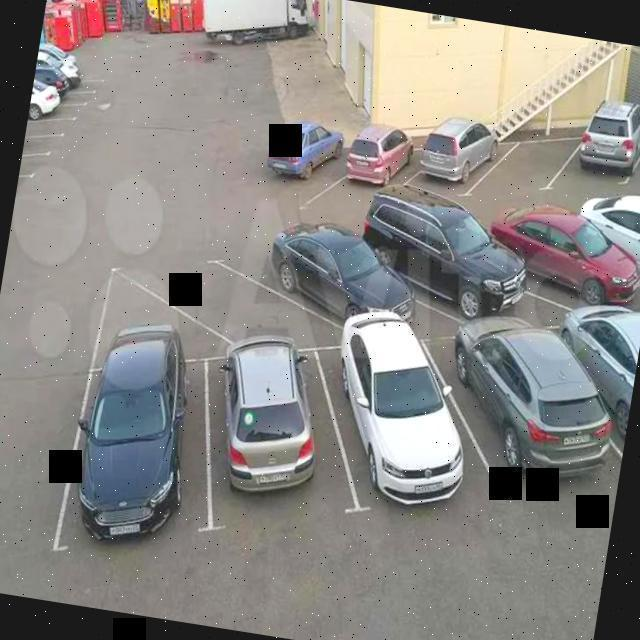space-empty: (111, 223, 322, 373), (476, 121, 582, 203)
space-occupied: (413, 304, 631, 519), (296, 316, 504, 541), (39, 342, 233, 575), (186, 323, 372, 534), (235, 205, 442, 358), (357, 194, 556, 342), (480, 206, 640, 333), (555, 316, 640, 471), (244, 111, 358, 216), (316, 125, 430, 217), (395, 123, 512, 210), (551, 109, 640, 204), (580, 194, 640, 301), (32, 67, 108, 105), (29, 82, 98, 122), (28, 95, 85, 129), (25, 110, 76, 147), (21, 129, 64, 171), (19, 148, 49, 185), (14, 169, 35, 212)
